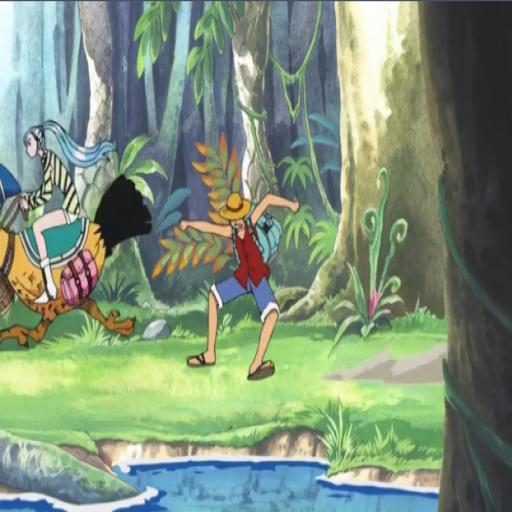Luffy: (175, 182, 305, 384)
